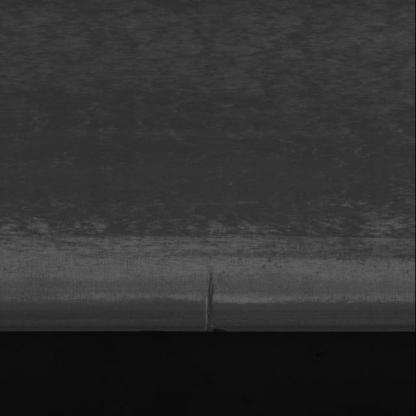crease: (198, 260, 230, 332)
silk_spot: (12, 10, 407, 237)
